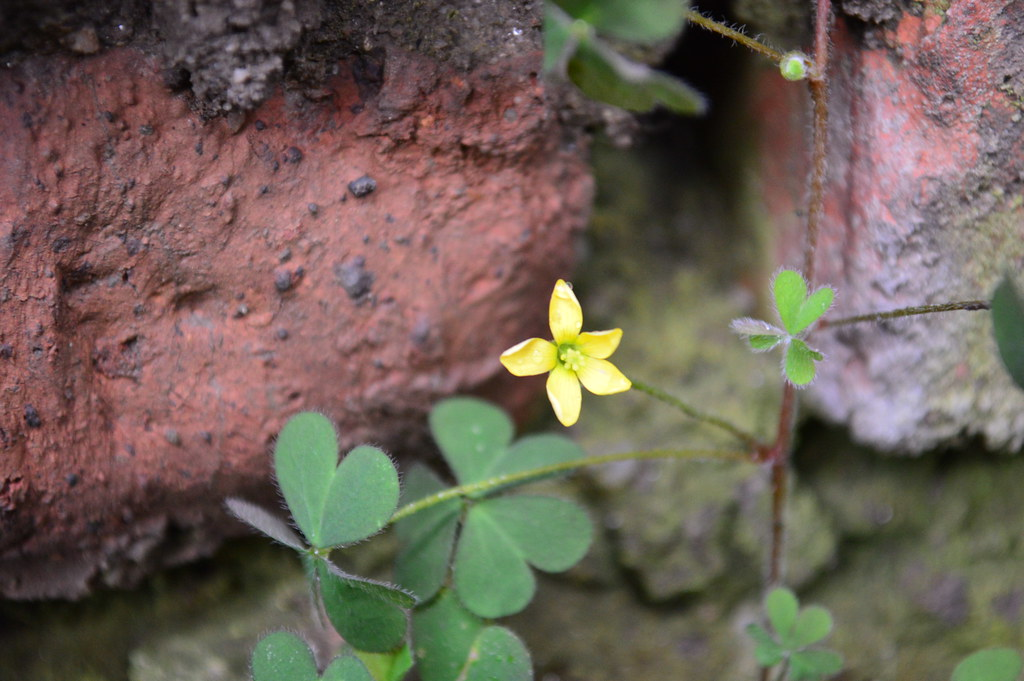oxalis: (215, 389, 608, 681), (710, 262, 888, 422)
